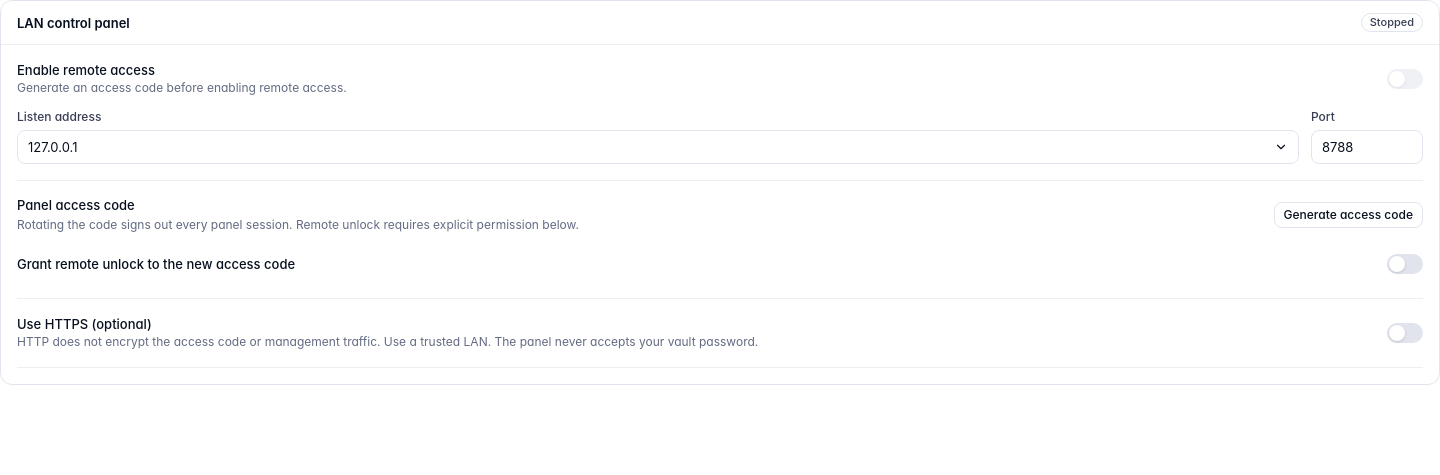
generating a code preserves listener edits and clears the displayed secret after a minute
The width and height of the screenshot is (1440, 475).
Expected: the button "Generate access code" is enabled, [1274,202,1423,228]
Expected: the switch named "Enable remote access" is disabled, [1387,69,1423,89]
Replace the text in the number field labelled "Port" with "9876" at (1367, 147), box [1311,130,1423,164]
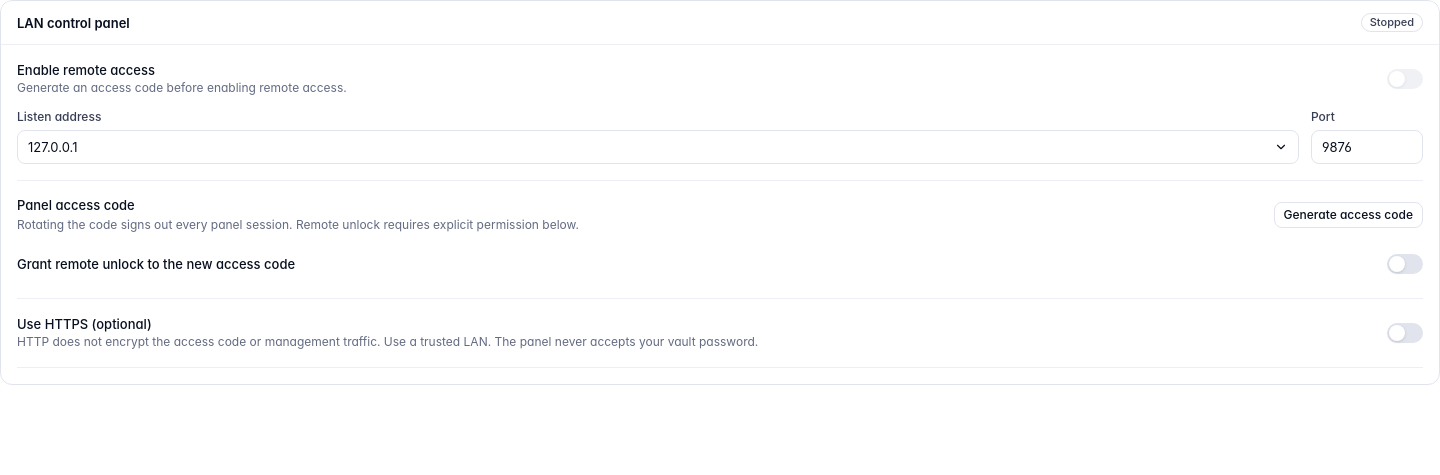
Click the button "Generate access code".
click(1348, 215)  # box [1274,202,1423,228]
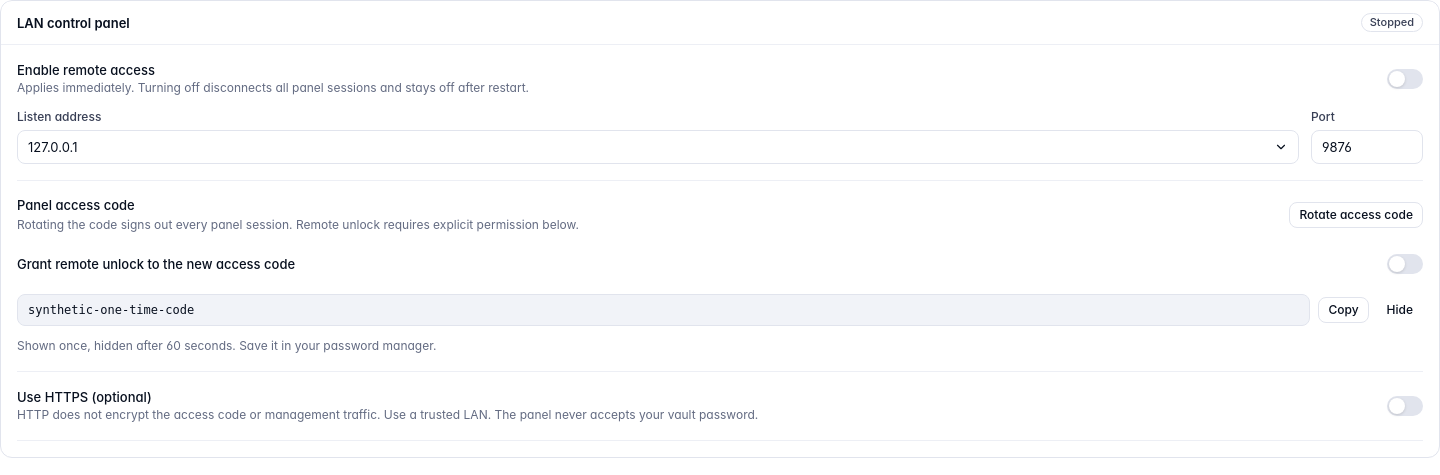
Expected: the field named "Panel access code" holds "synthetic-one-time-code", [17,294,1310,326]
Click the button "Copy".
click(1343, 310)  # box [1318,297,1368,323]
Wait 60000 ms
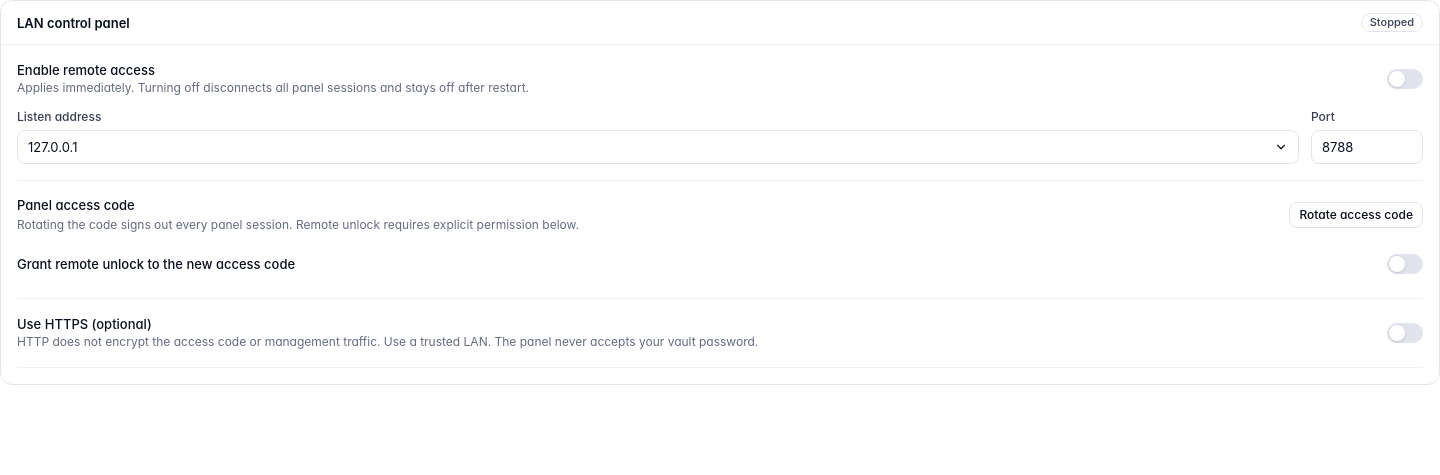
Expected: the element with class "access-code" is gone
